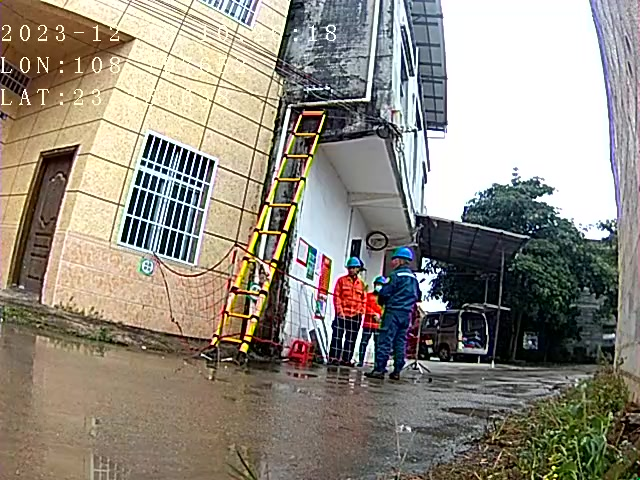halt: (394, 250, 417, 270), (348, 259, 366, 279)
